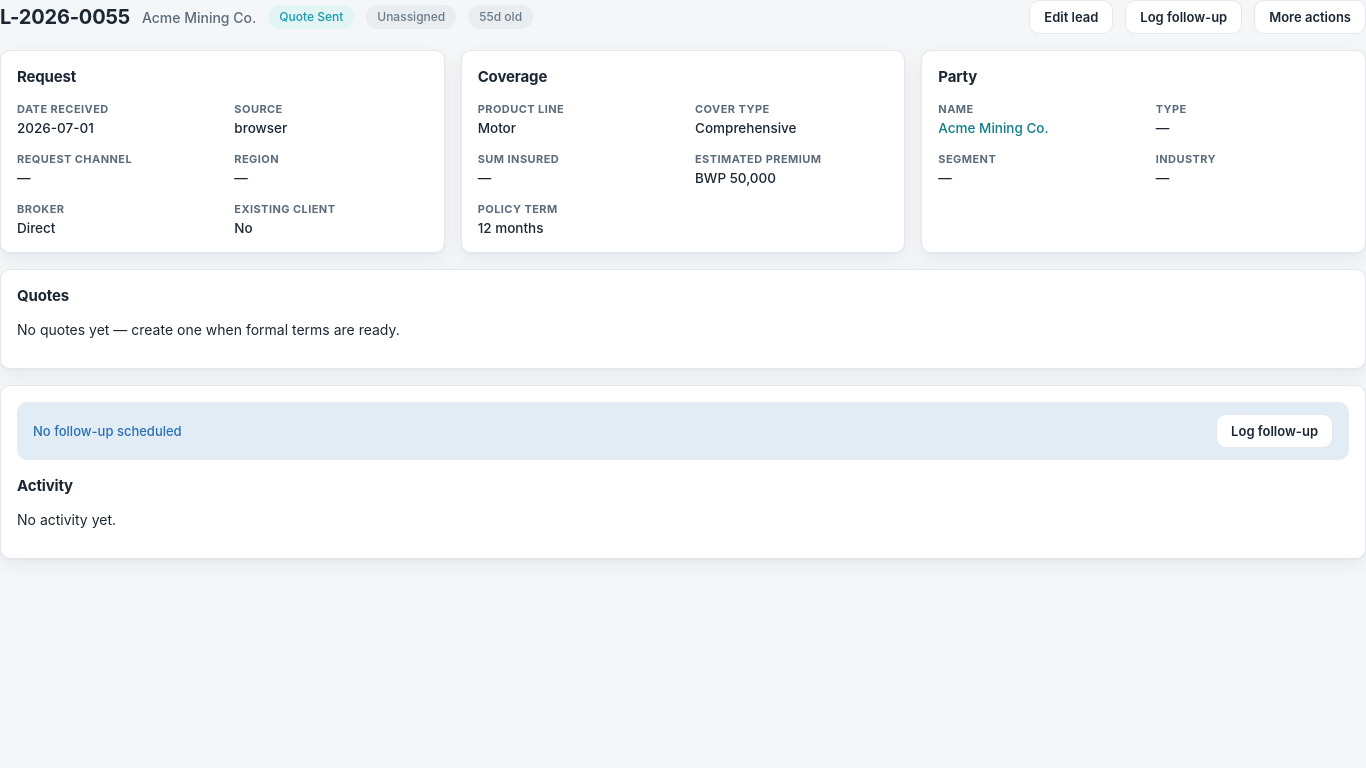
LeadDetailPage › click_WhenMarkLostConfirmedWithoutReason_ShouldKeepDialogOpenWithInlineError
Click the button with test id "more-actions-trigger" at (1310, 17), box x1=1254 y1=0 x2=1365 y2=34
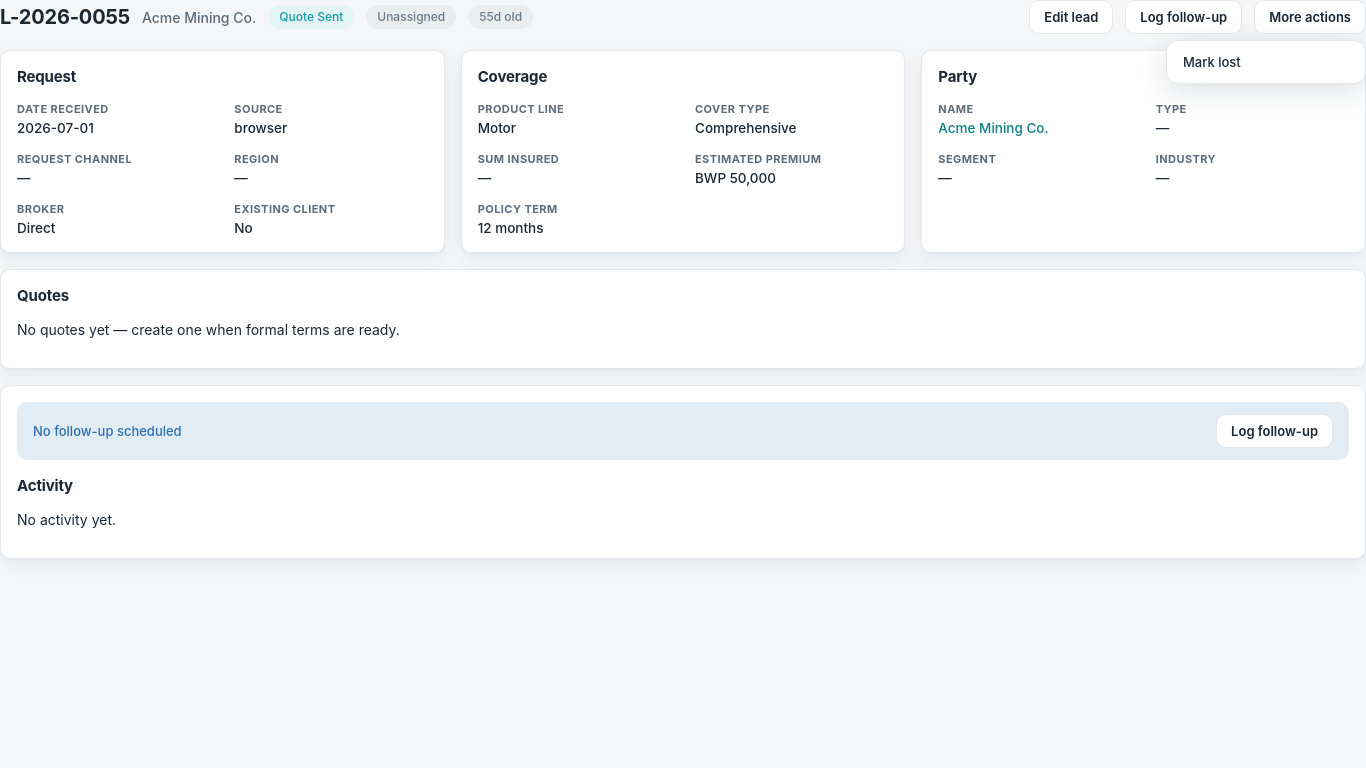
Click the menu item with test id "more-action-mark-lost" at (1266, 62), box x1=1171 y1=45 x2=1361 y2=79
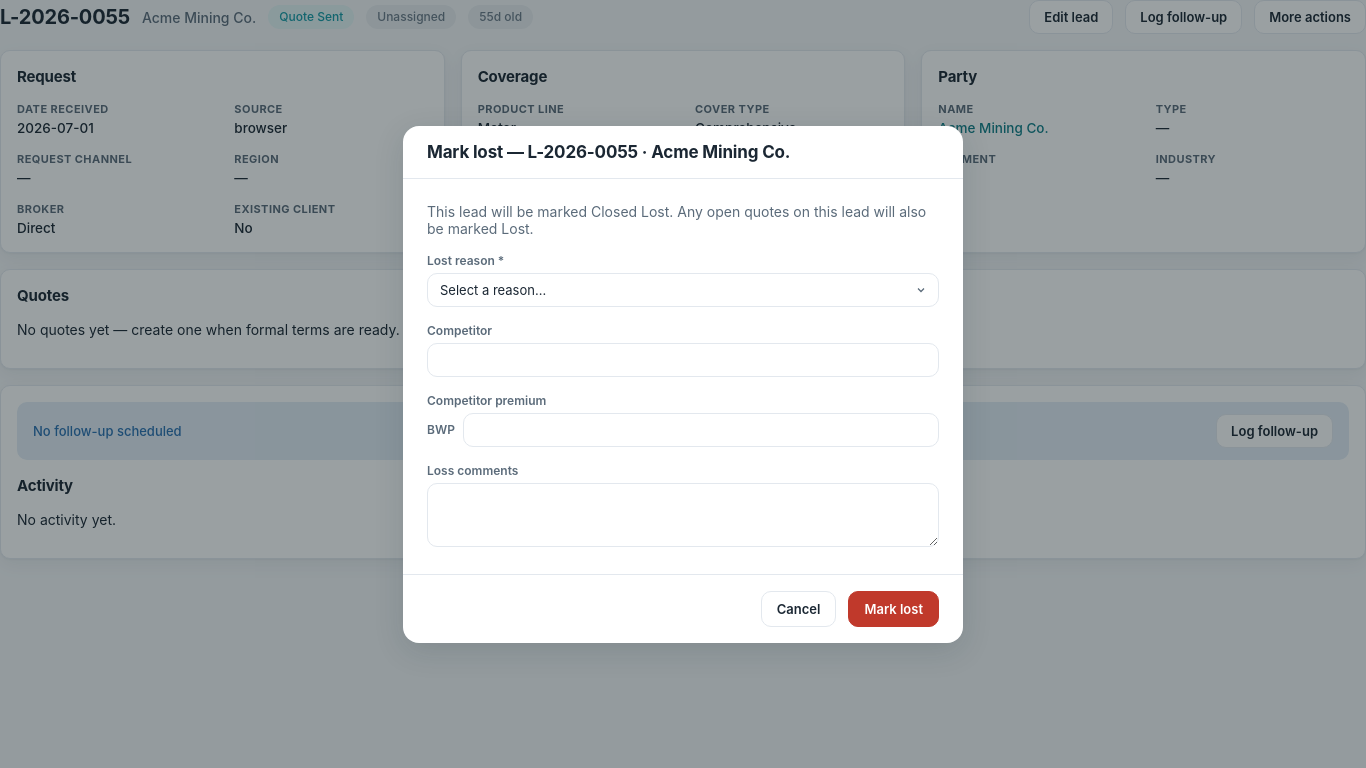
Click the button with test id "dialog-danger-button" at (894, 608), box x1=848 y1=590 x2=939 y2=626
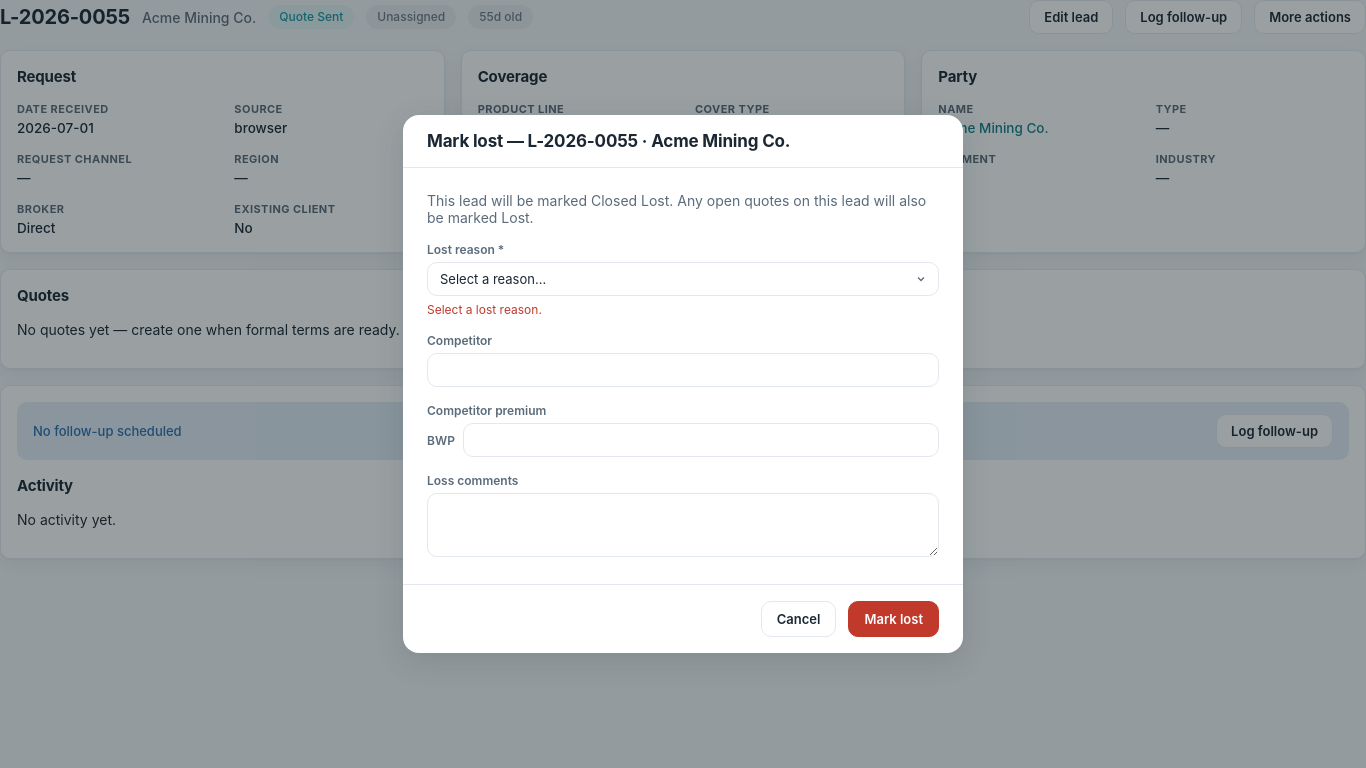
expect the element with test id "mark-lost-dialog" is shown: met
expect the message "Select a lost reason." is shown: met, box x1=427 y1=302 x2=542 y2=317
